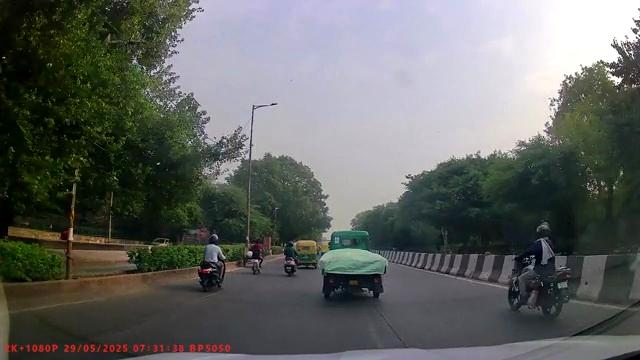motorcycle_with_helmet: (506, 220, 572, 320), (198, 232, 226, 292)
